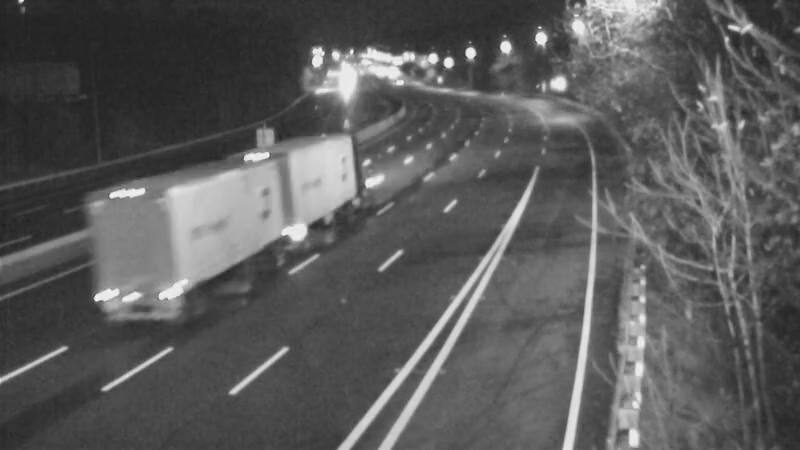vehicle: (240, 141, 320, 221), (372, 55, 422, 105)
